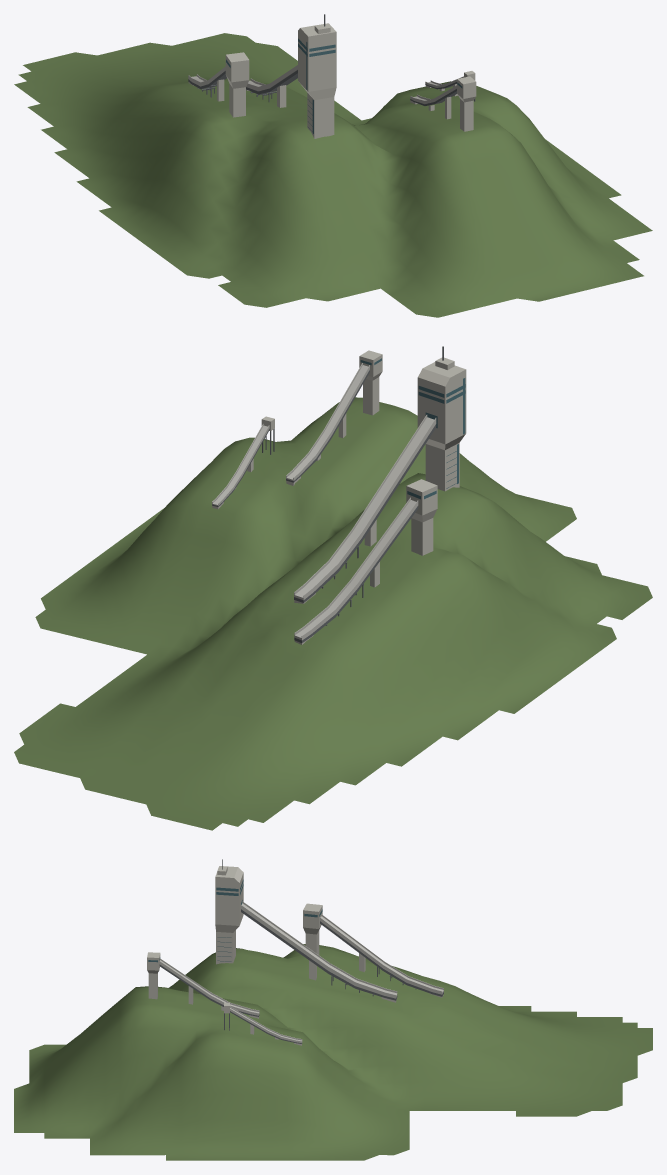
File: canada-olympic-park-far.glb
3 views of the same model, one above another, from view 1: azimuth 30°, elevation 25°; view 2: azimuth 150°, elevation 25°; view 3: azimuth 270°, elevation 25° (orthographic). The views are drawn at different scales.
Parts seen in each view (by area): view 1: canada-olympic-park-0-grass, canada-olympic-park-0-concrete, canada-olympic-park-0-clad, canada-olympic-park-0-steel, canada-olympic-park-0-glass; view 2: canada-olympic-park-0-grass, canada-olympic-park-0-concrete, canada-olympic-park-0-clad, canada-olympic-park-0-steel, canada-olympic-park-0-glass; view 3: canada-olympic-park-0-grass, canada-olympic-park-0-concrete, canada-olympic-park-0-clad, canada-olympic-park-0-steel.
Part boxes in pixels (bbox=[...]): canada-olympic-park-0-grass: bbox=[14, 33, 652, 317]; canada-olympic-park-0-concrete: bbox=[188, 23, 476, 138]; canada-olympic-park-0-clad: bbox=[188, 65, 463, 104]; canada-olympic-park-0-steel: bbox=[188, 14, 475, 105]; canada-olympic-park-0-glass: bbox=[226, 38, 462, 133]; canada-olympic-park-0-grass: bbox=[14, 397, 652, 830]; canada-olympic-park-0-concrete: bbox=[212, 350, 466, 644]; canada-olympic-park-0-clad: bbox=[212, 363, 436, 640]; canada-olympic-park-0-steel: bbox=[212, 346, 443, 642]; canada-olympic-park-0-glass: bbox=[360, 358, 465, 499]; canada-olympic-park-0-grass: bbox=[14, 944, 652, 1160]; canada-olympic-park-0-concrete: bbox=[147, 866, 443, 1045]; canada-olympic-park-0-clad: bbox=[159, 901, 443, 1043]; canada-olympic-park-0-steel: bbox=[159, 859, 443, 1043].
Size of the model in its own units: 247 by 128 by 389.
